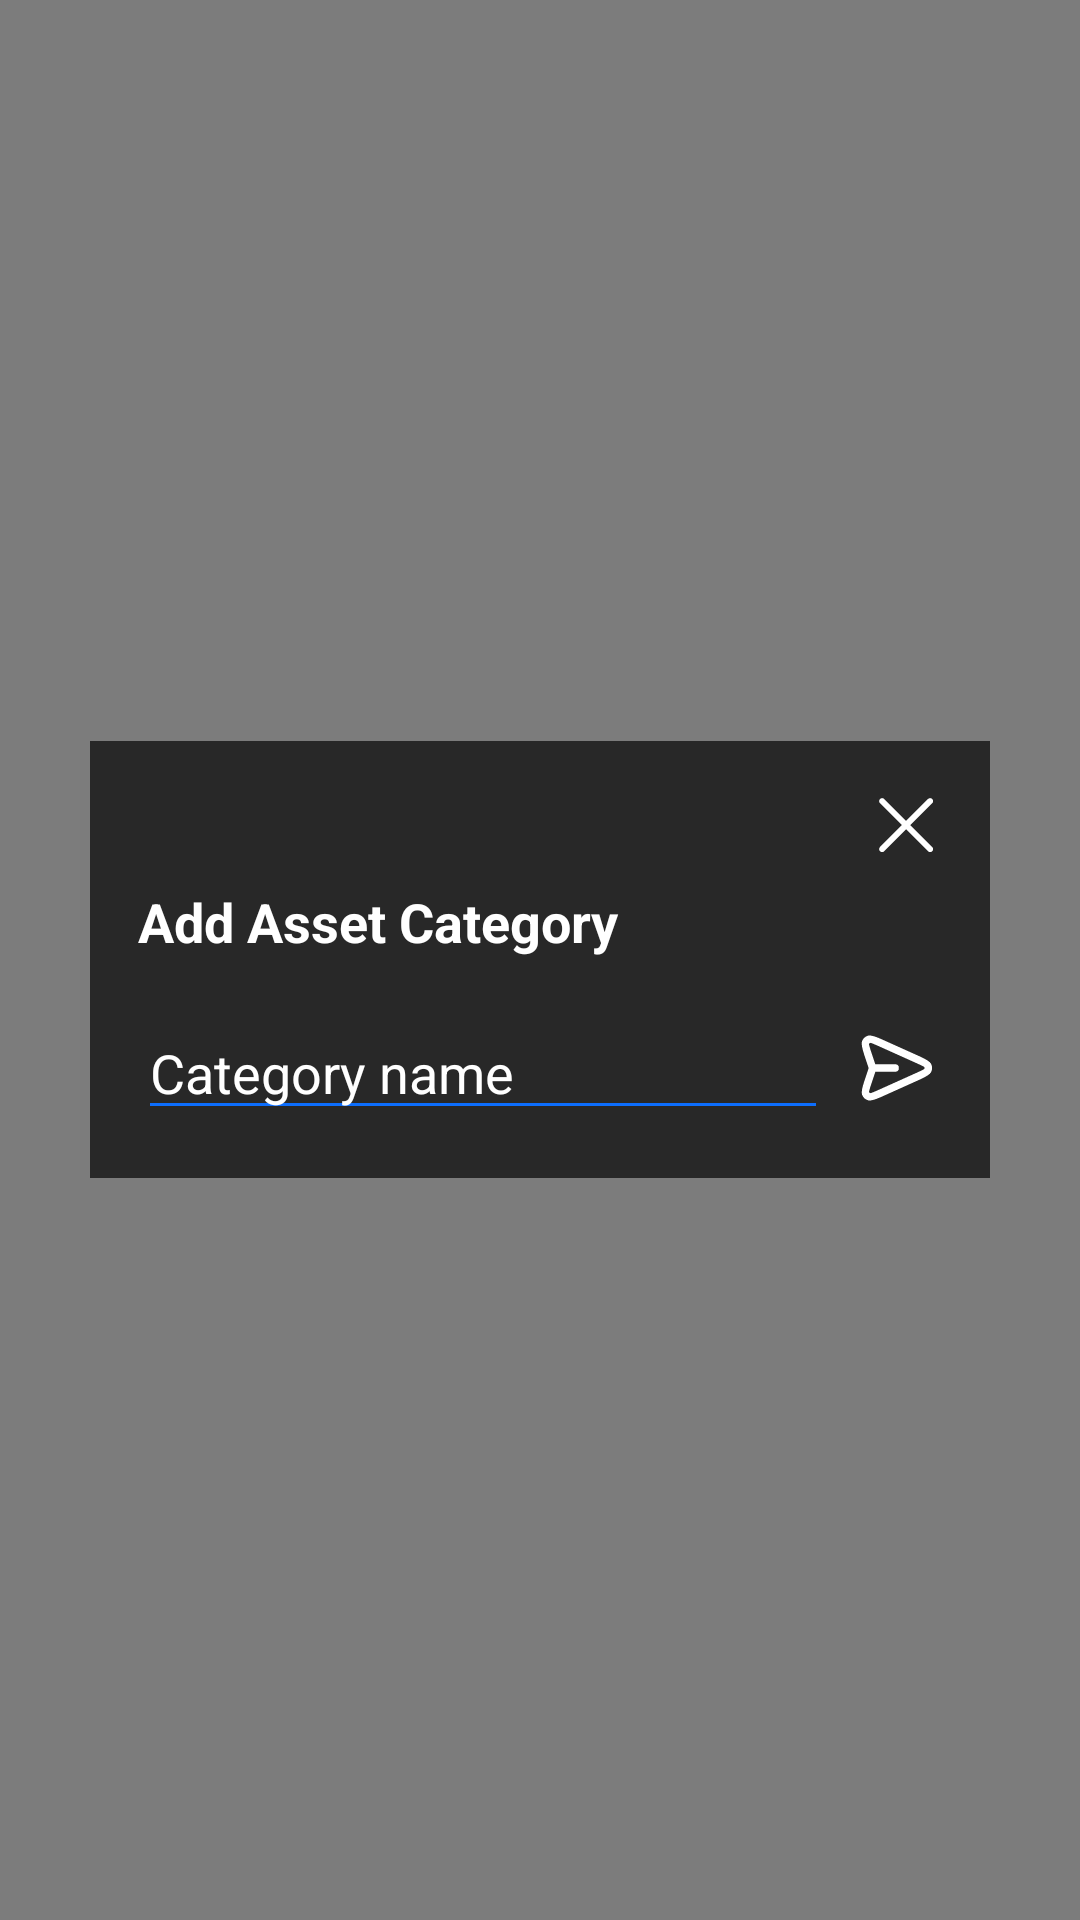

Named icons in this screenshot (1080*1920) and their centers, (x,y):
Close: (906,825)
Send: (896,1068)
